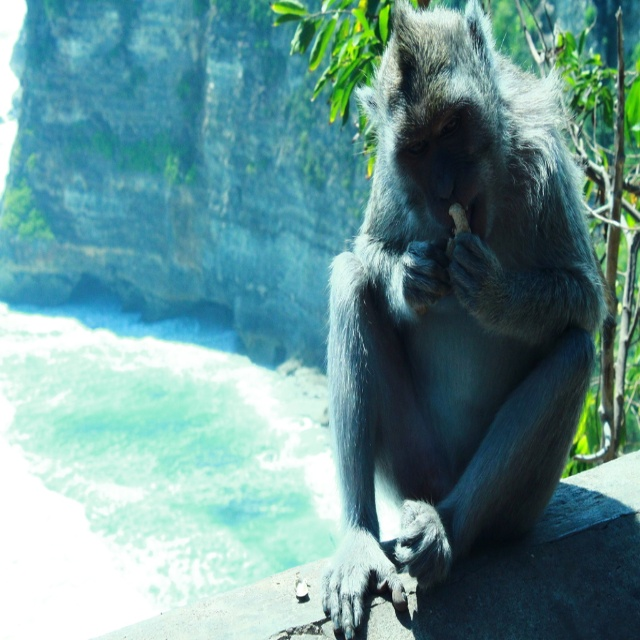Monkey: (296, 22, 620, 625)
